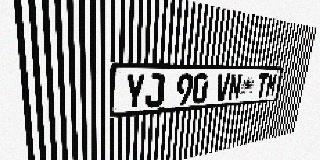0: (191, 74, 209, 104)
9: (176, 74, 194, 105)
J: (145, 74, 165, 108)
M: (265, 73, 278, 97)
N: (227, 73, 242, 101)
T: (255, 73, 269, 98)
V: (215, 73, 231, 102)
Y: (124, 74, 146, 110)
